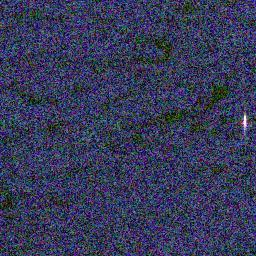Ship: (236, 110, 250, 134)
